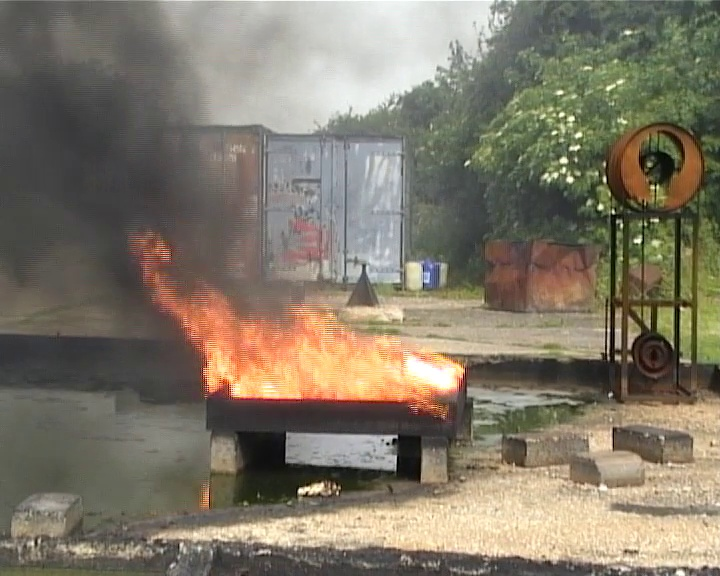fire: (138, 228, 462, 399)
